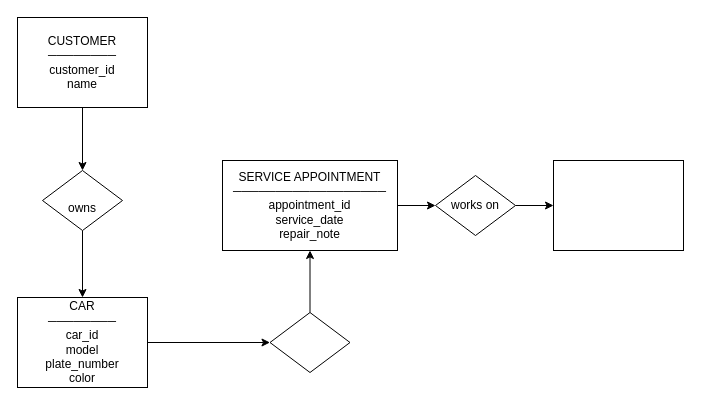
Some shapes in this 701 by 405 pixel diagram are drawn without their labels. Each missing label, with the box of its shape:
has: (269, 312, 350, 372)
MECHANIC ──────── mechanic_id name specialty: (552, 160, 684, 250)
